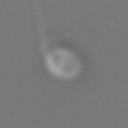abnormal: (21, 1, 53, 59)
